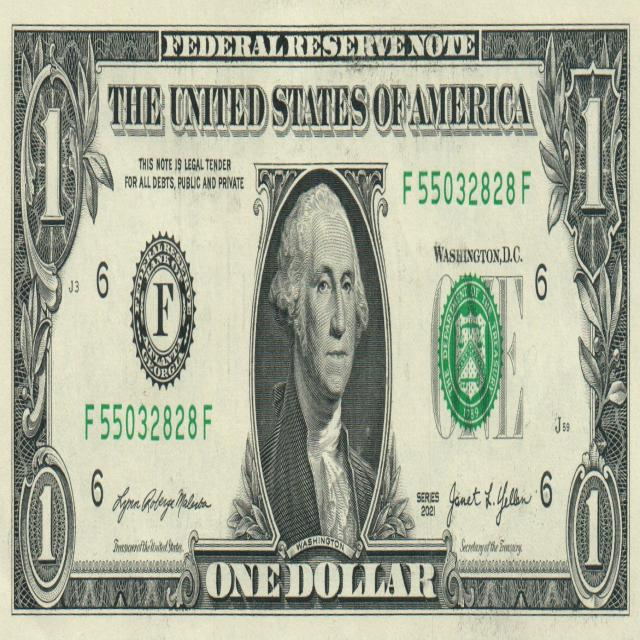SerialNumber: (86, 404, 212, 440), (404, 170, 530, 206)
